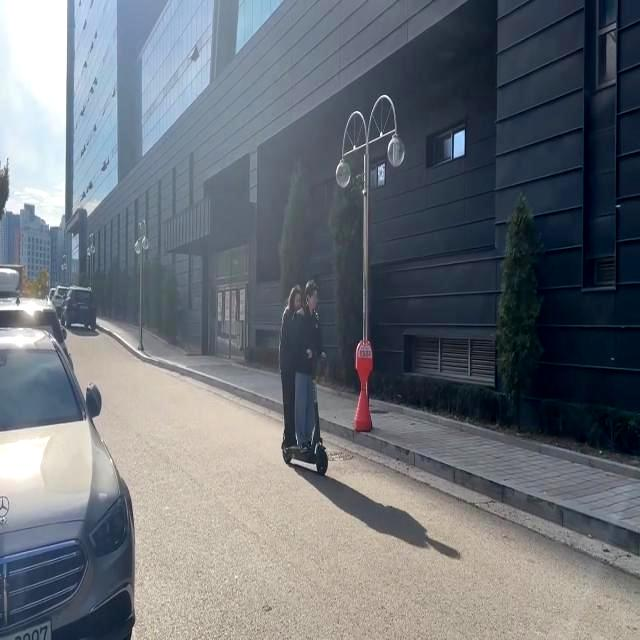bare_head: (301, 278, 324, 314), (283, 283, 306, 313)
human: (274, 285, 304, 447), (294, 276, 319, 453)
kickboard: (269, 432, 337, 479)
